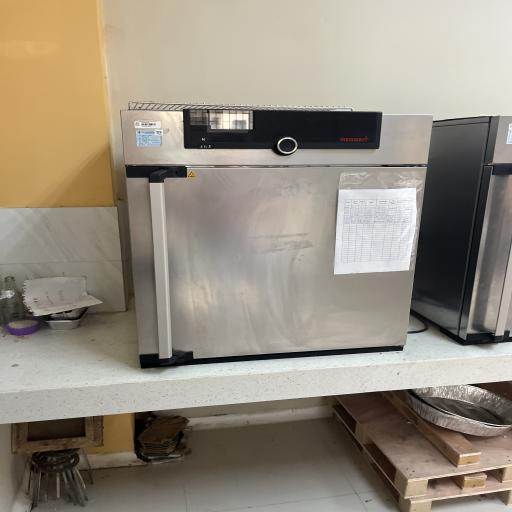Memmert_Unidad2: (100, 90, 444, 375)
